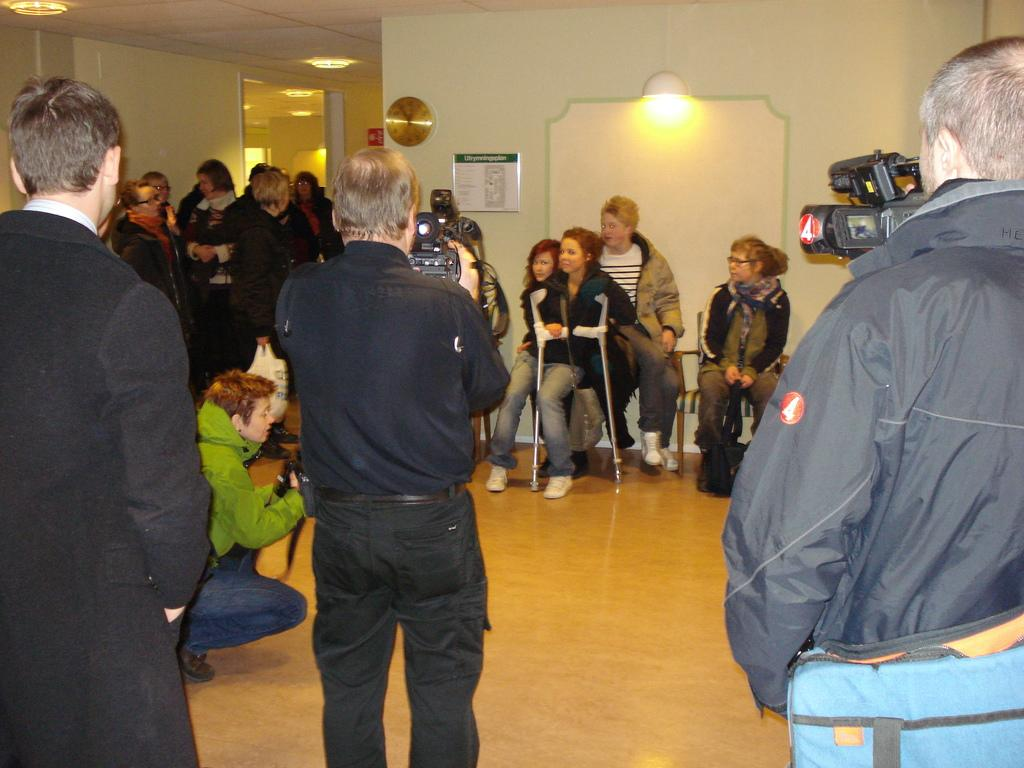crutches: (524, 219, 631, 503)
